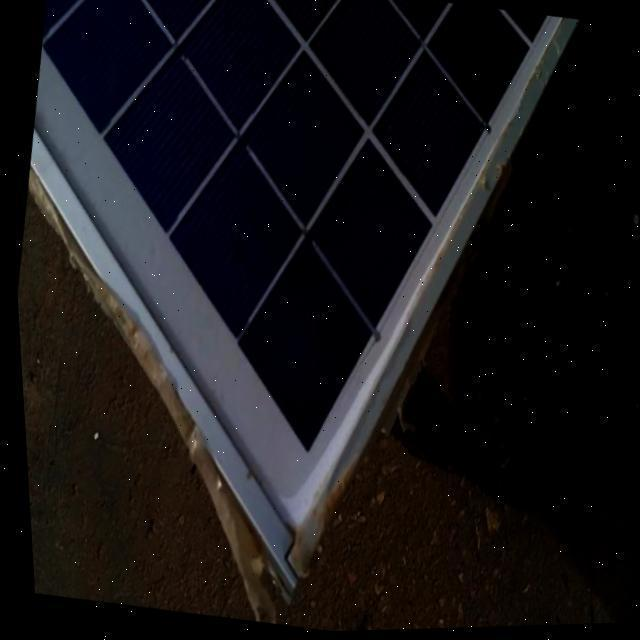Normal Solar Panel: (0, 0, 605, 613)
